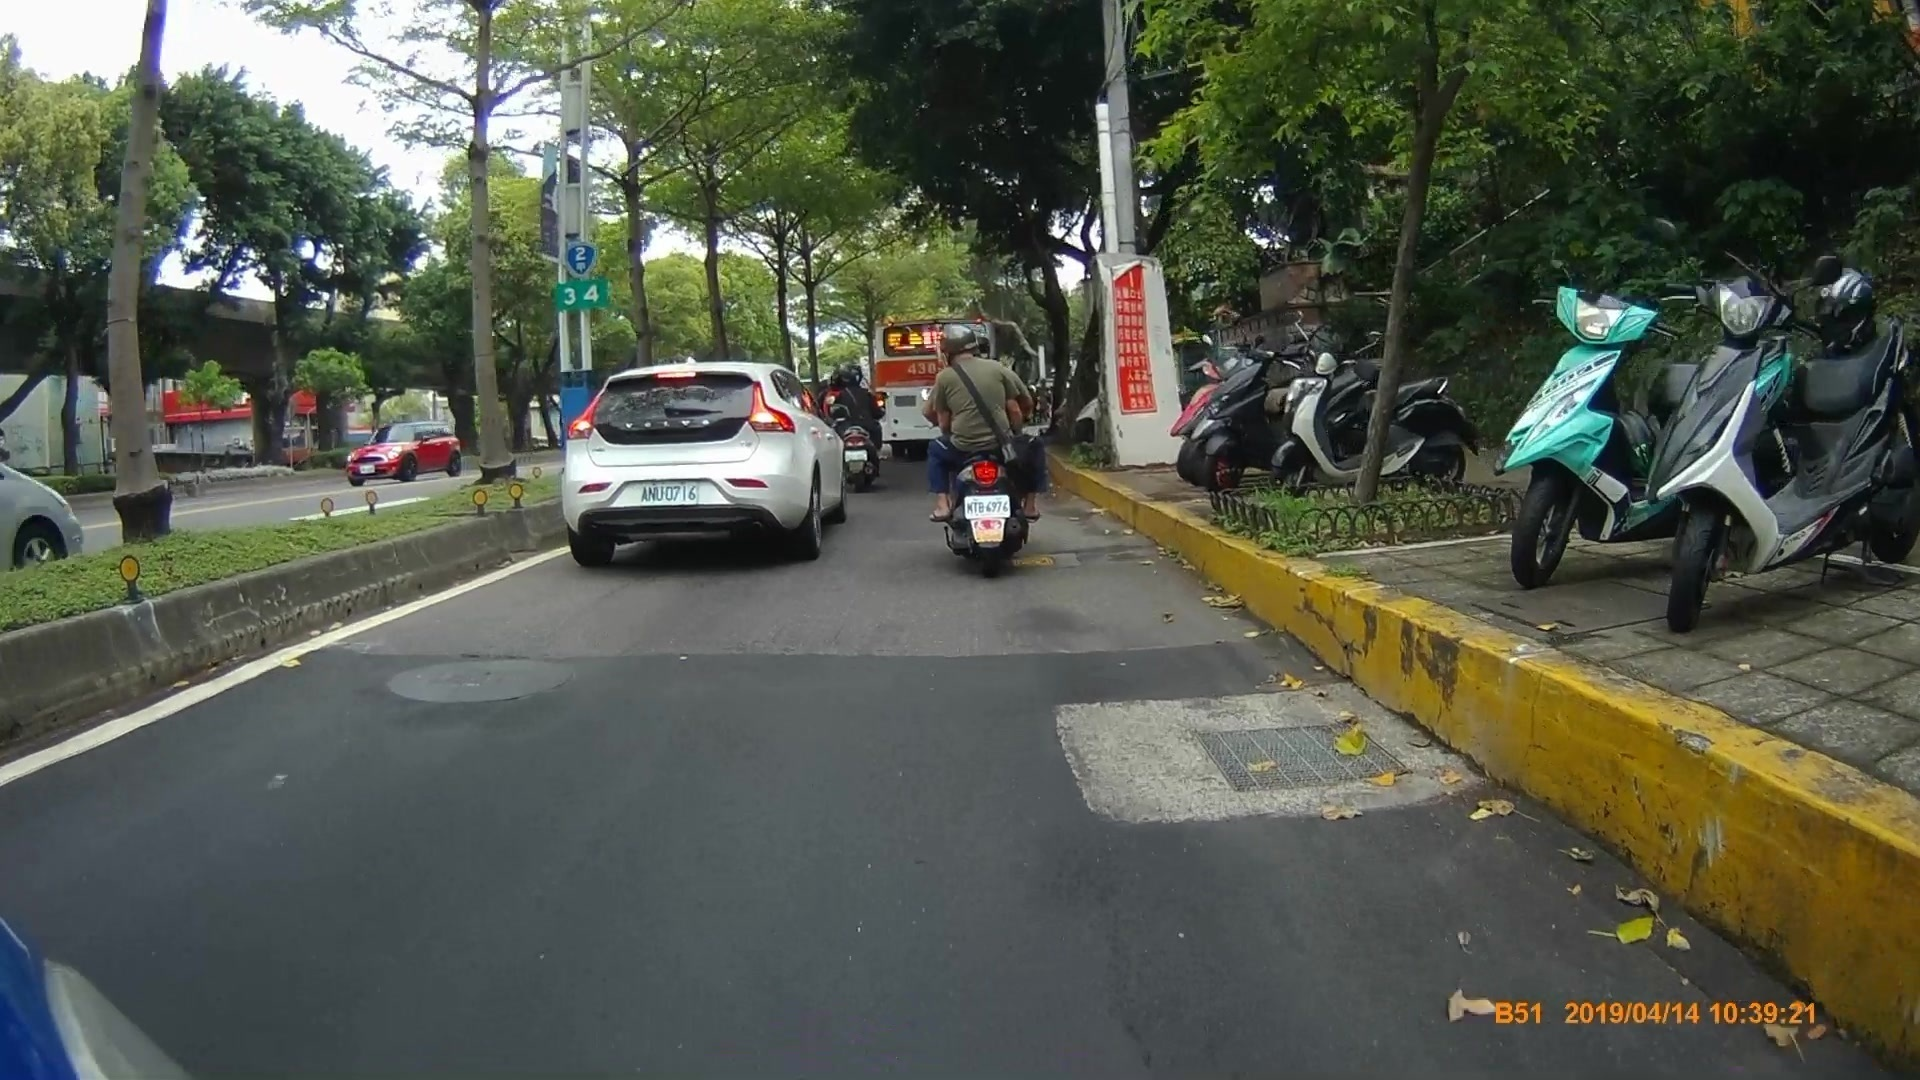License_plate: (638, 480, 696, 504), (961, 495, 1010, 517)
